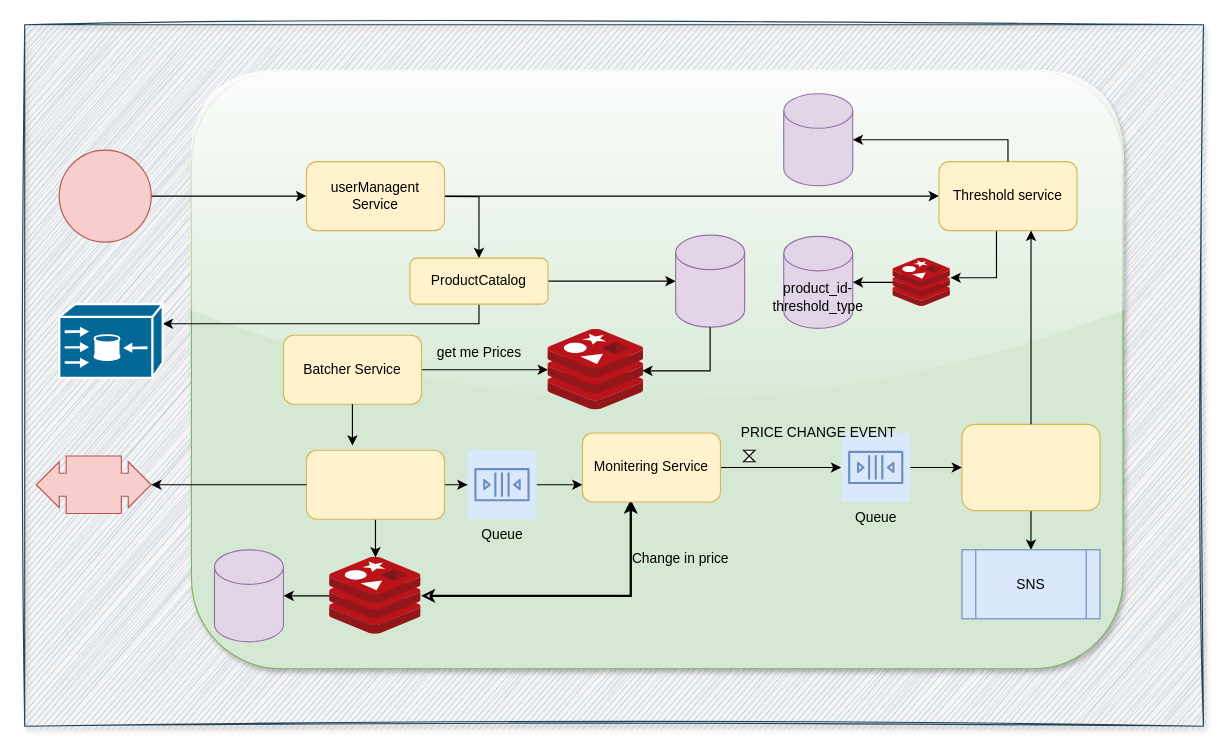
The diagram is 1231 pixels wide and 754 high, and some of its shapes have lost their labels. The centre of each missing label's shape, as x and y in pixels:
Alerting service: (1030,467)
client: (104,195)
id,threshold, type, key: (818,139)
Products: (709,280)
scaper service: (374,484)
